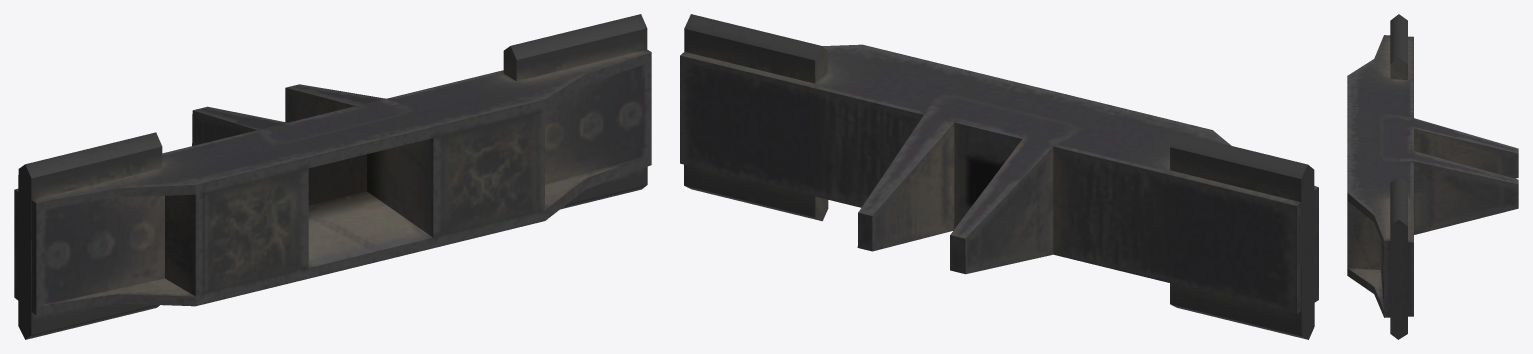
3 views of the same model, side by side, from view 1: azimuth 30°, elevation 25°; view 2: azimuth 150°, elevation 25°; view 3: azimuth 270°, elevation 25° (orthographic). The views are drawn at different scales.
Visible parts, largest first — view 1: set_0_group_0; view 2: set_0_group_0; view 3: set_0_group_0.
Part boxes in pixels (x1=…): set_0_group_0: x1=14, y1=14, x2=651, y2=339; set_0_group_0: x1=680, y1=14, x2=1318, y2=339; set_0_group_0: x1=1347, y1=14, x2=1518, y2=339.
Bounding box in the file's own units: 0.4846 × 0.1317 × 0.1703.
Materials: 1 (1 with a texture image).
